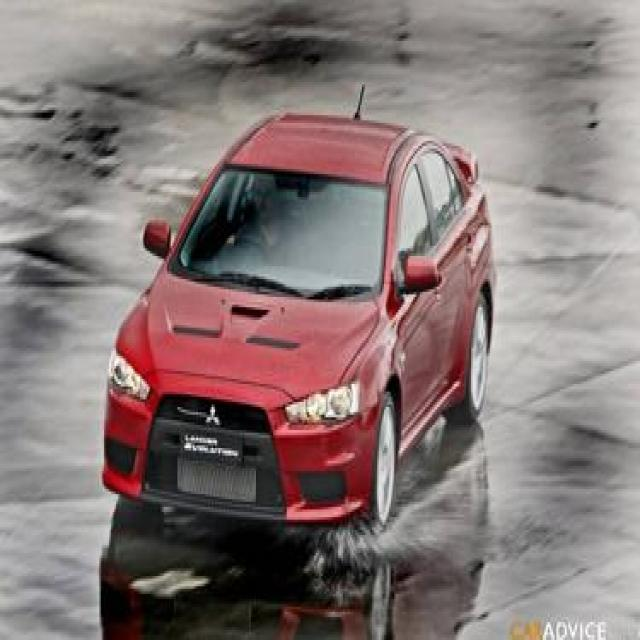Car: (146, 59, 518, 568)
